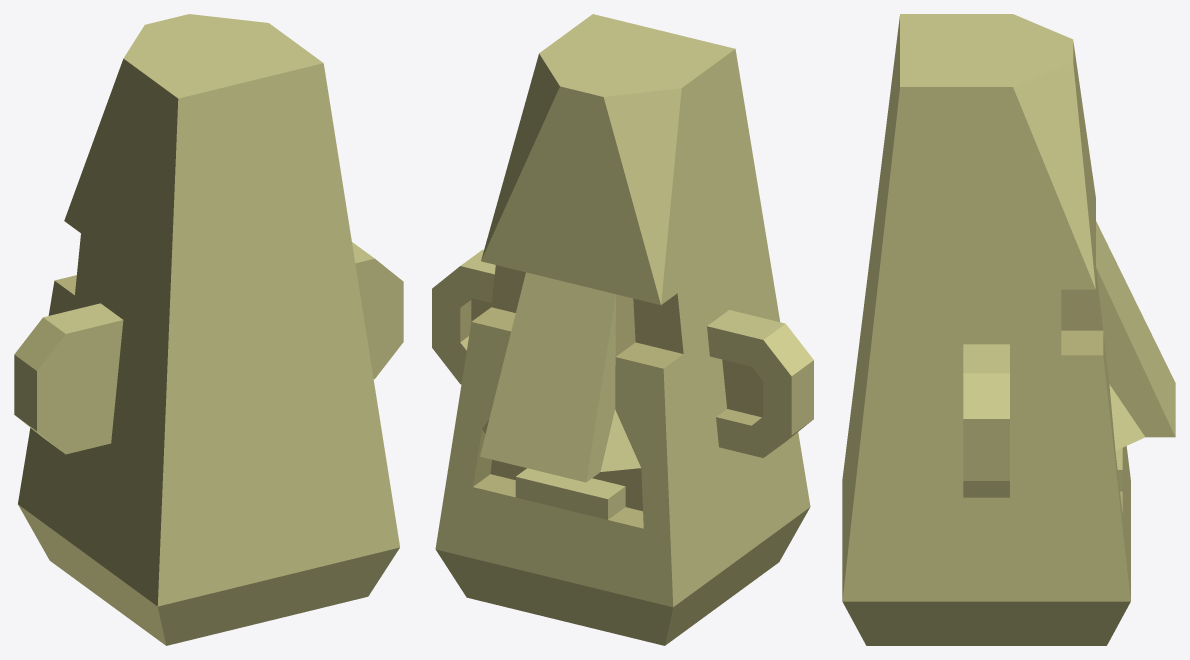
The model's file is nature_statue_head.glb.
The picture shows the model from 3 angles, left to right: view 1: azimuth 30°, elevation 25°; view 2: azimuth 150°, elevation 25°; view 3: azimuth 270°, elevation 25°; orthographic projection. The views are drawn at different scales.
Visible parts, largest first — view 1: nature_statue_head; view 2: nature_statue_head; view 3: nature_statue_head.
Boxes of the visible parts, x1,y1,x2,y2 form: nature_statue_head: (14, 14, 403, 645); nature_statue_head: (432, 14, 813, 645); nature_statue_head: (842, 14, 1175, 645).
Size of the model in its own units: 0.726 by 1 by 0.5544.
